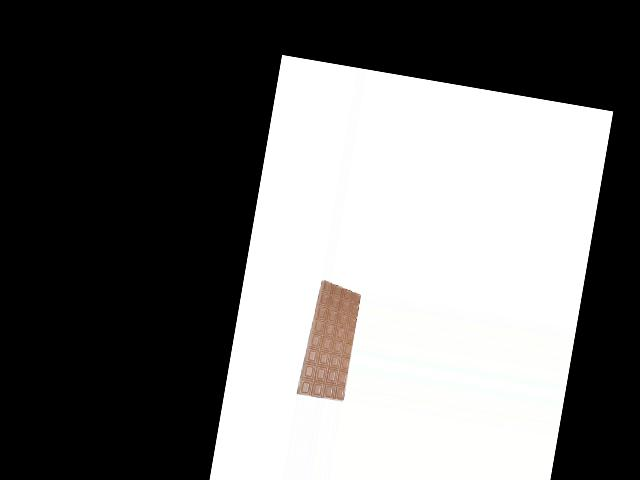chocolate: (297, 277, 363, 403)
